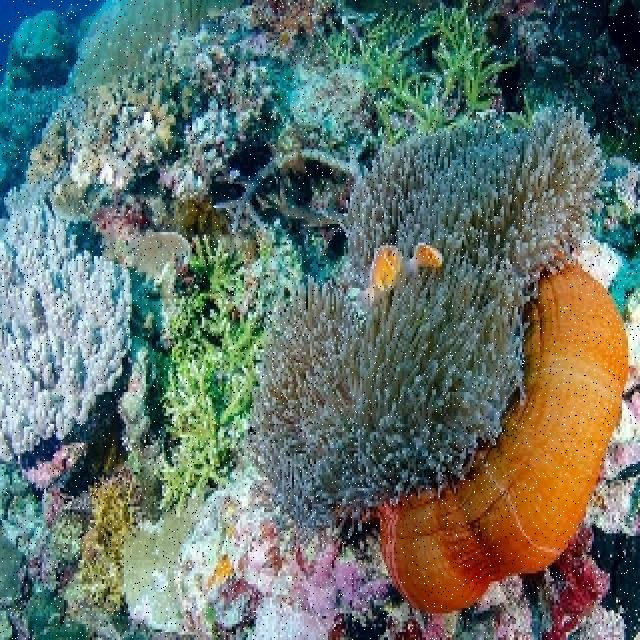aquatic plants: (147, 235, 263, 510), (313, 0, 520, 146)
fish: (360, 244, 402, 306), (410, 243, 443, 273)
reefs: (242, 104, 612, 542), (378, 265, 629, 616), (0, 177, 134, 471), (78, 467, 144, 610)
